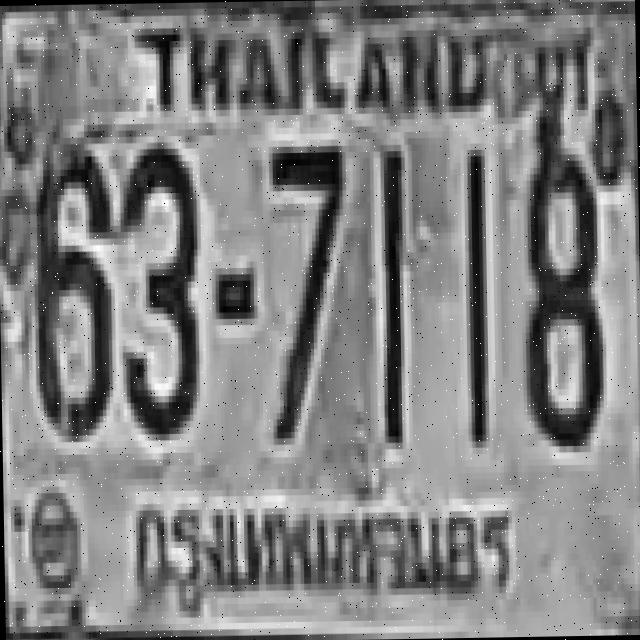1: (376, 142, 406, 440), (463, 146, 486, 444)
3: (117, 136, 199, 434)
6: (30, 143, 112, 436)
7: (266, 139, 344, 438)
8: (518, 135, 600, 440)
Bangkok: (116, 469, 519, 606)
